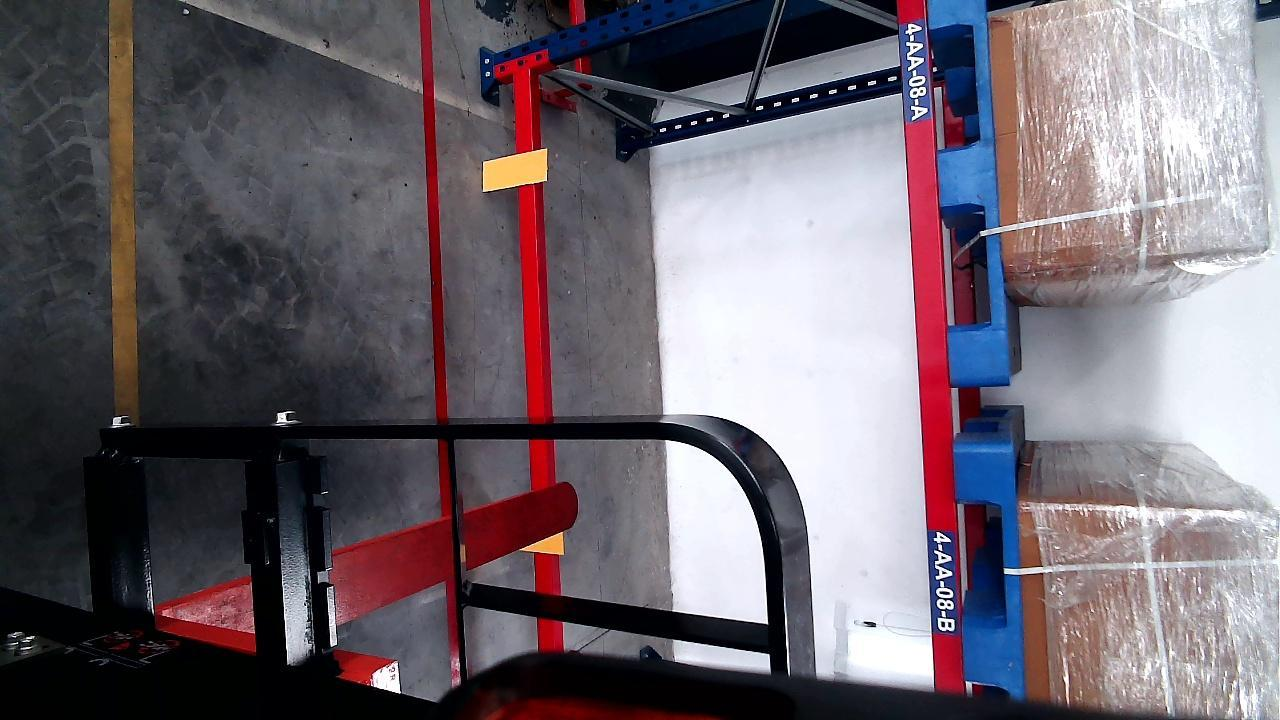red_line: (423, 7, 449, 419)
yellow_line: (109, 0, 139, 421)
